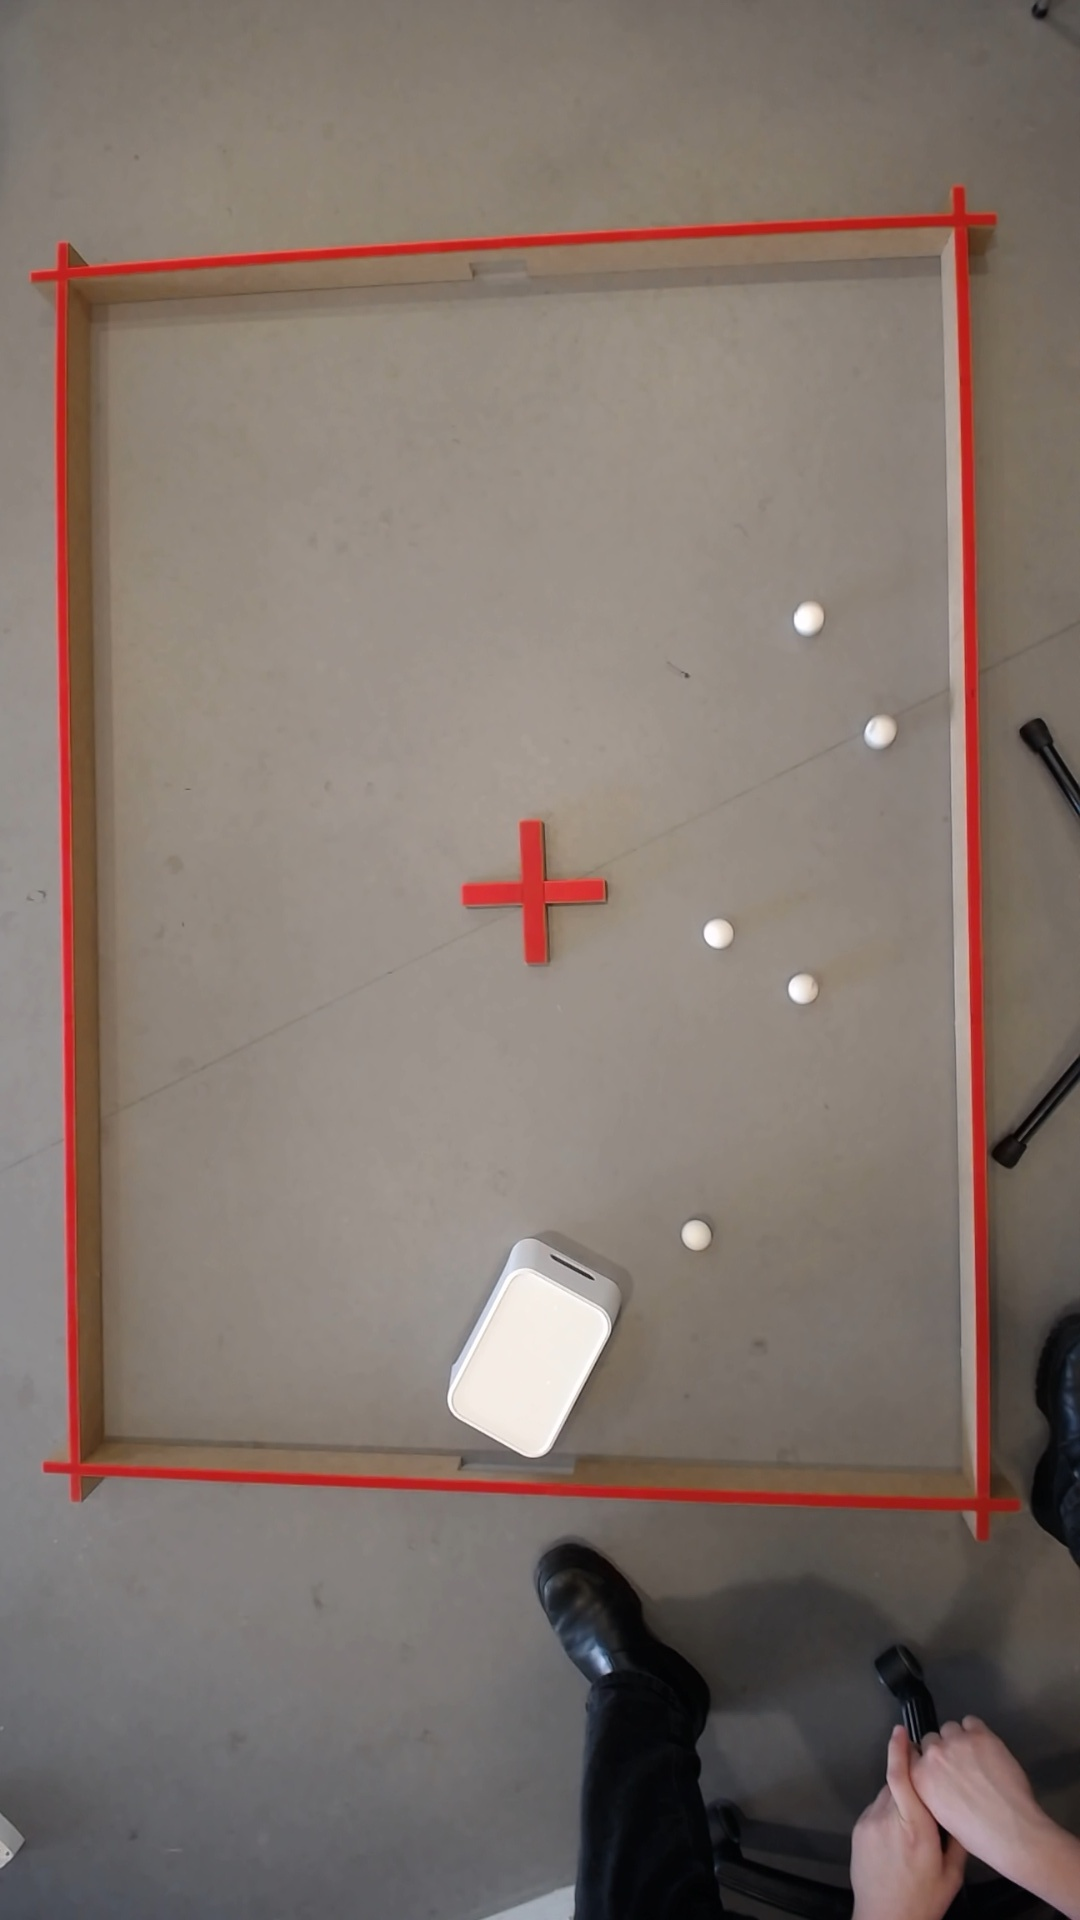balls: (909, 1770, 1022, 1875), (786, 597, 827, 637), (698, 914, 735, 951), (858, 712, 894, 749), (782, 972, 815, 1005), (886, 1779, 910, 1818), (676, 1218, 707, 1249)
car: (860, 1826, 881, 1847)
